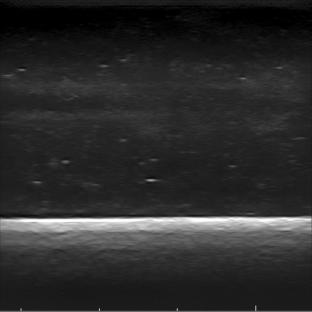vessel: (0, 79, 123, 125)
